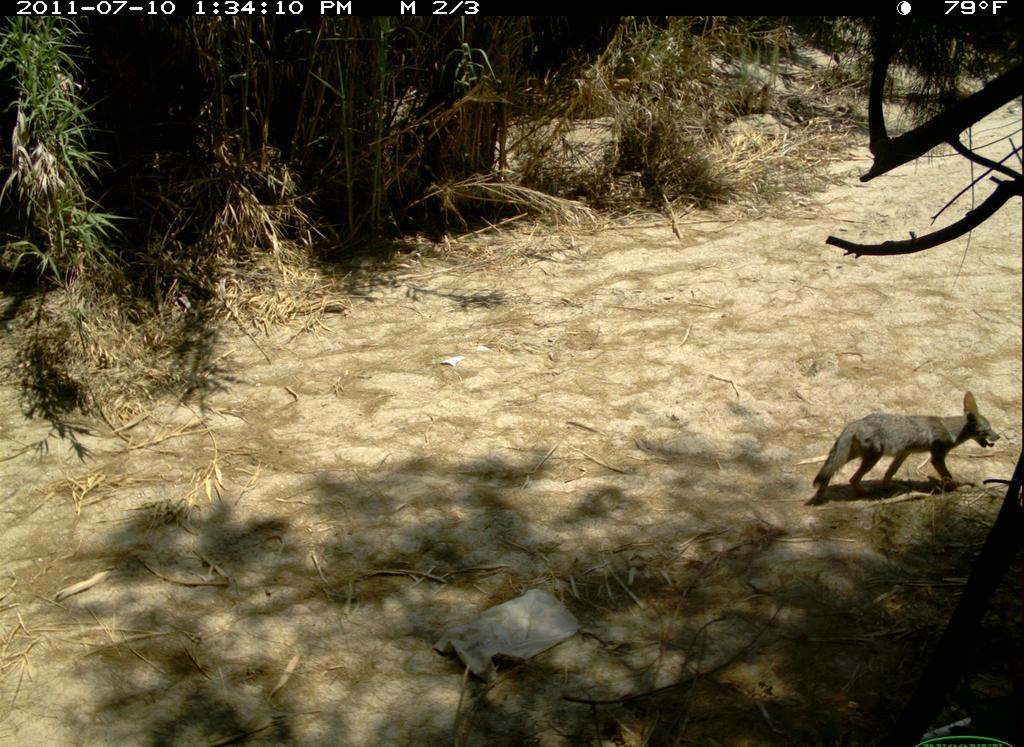coyote: (807, 391, 1004, 509)
